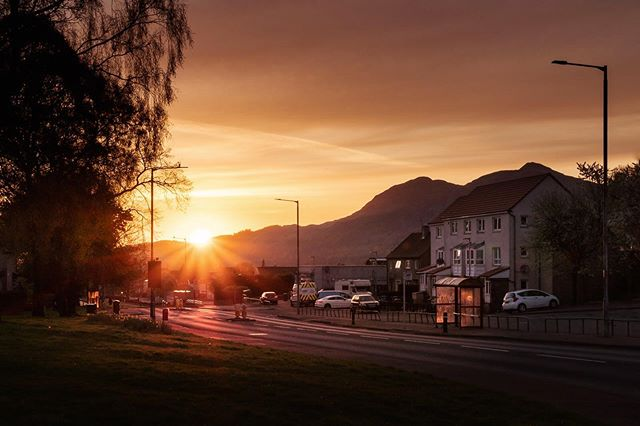building: (426, 173, 585, 296), (383, 235, 428, 297)
car: (504, 289, 561, 313), (314, 293, 351, 311), (349, 291, 380, 312)
grass: (1, 328, 558, 426)
sky: (158, 1, 640, 172)
street: (184, 310, 640, 406)
sun: (186, 224, 224, 255)
tree: (1, 1, 174, 319)
